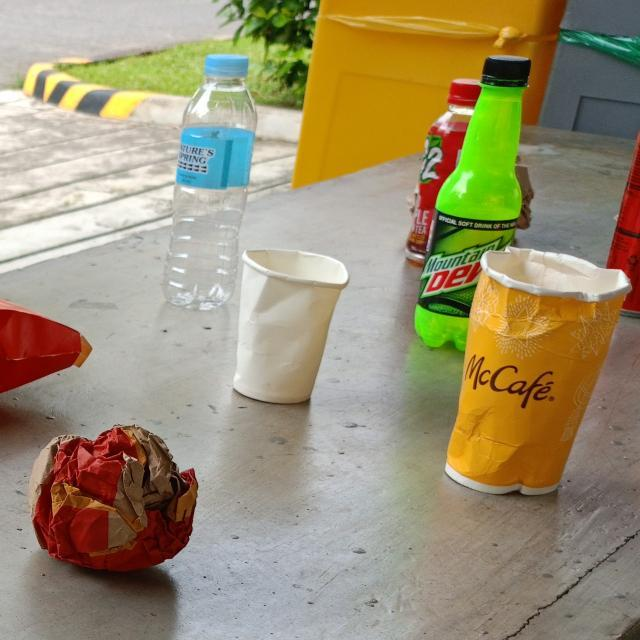recyclable waste: (435, 238, 640, 507), (409, 47, 542, 362), (18, 412, 213, 588), (154, 48, 266, 322), (222, 240, 360, 410), (399, 71, 486, 269), (598, 124, 640, 324)
